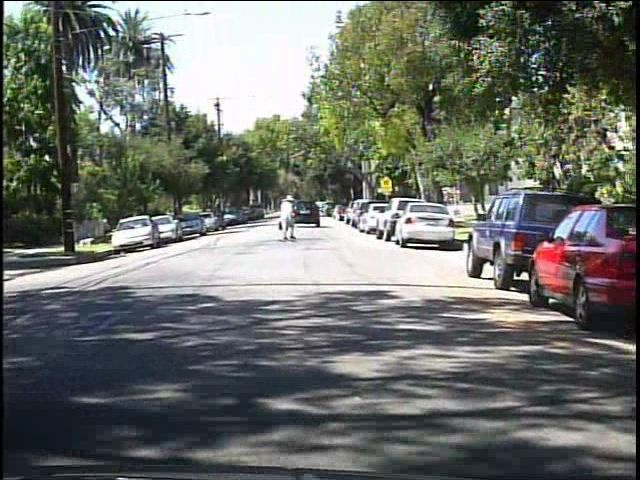person: (274, 193, 302, 243)
